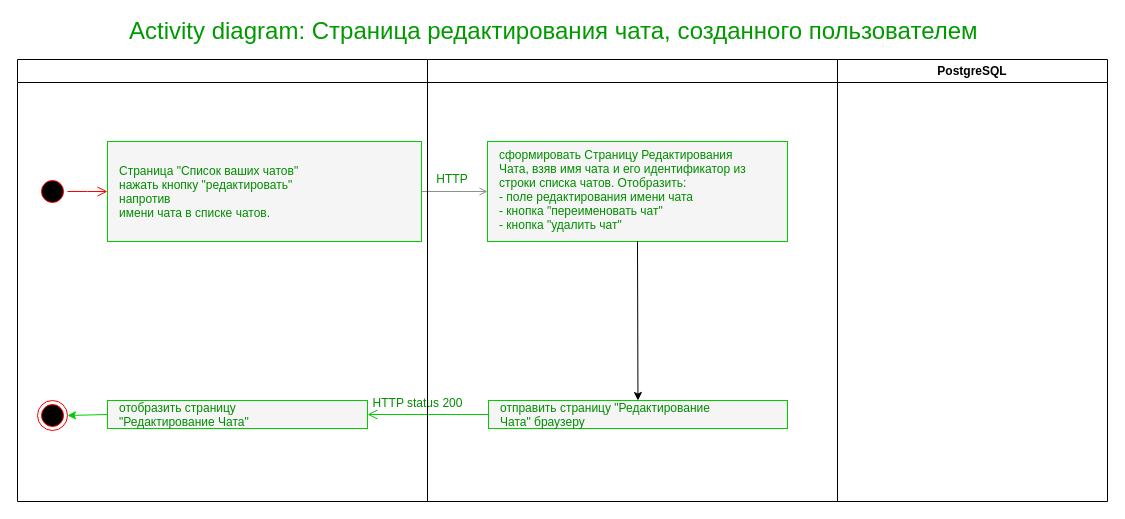
Some shapes in this 1125 by 519 pixel diagram are drawn without their labels. The shapes that lost their labels are listed below. From the top down, each one's box as (x1, y1, x2, y2) in pixels, then its label:
(16, 58, 428, 502): Браузер
(426, 58, 838, 502): Tomcat
